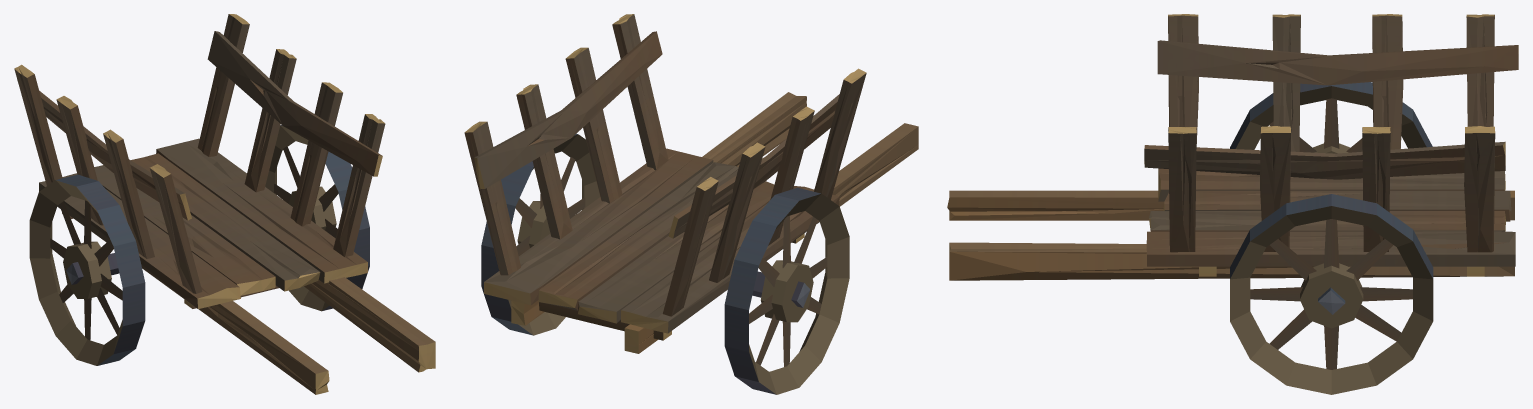
The model's file is Cart.fbx.
3 views of the same model, side by side, from view 1: azimuth 30°, elevation 25°; view 2: azimuth 150°, elevation 25°; view 3: azimuth 270°, elevation 25° (orthographic). The views are drawn at different scales.
Visible parts, largest first — view 1: polySurface9717; view 2: polySurface9717; view 3: polySurface9717.
Part boxes in pixels (<box>): polySurface9717: <box>14,14,435,394</box>; polySurface9717: <box>464,14,918,394</box>; polySurface9717: <box>947,14,1518,394</box>.
Bounding box in the file's own units: 222 × 195 × 392.
